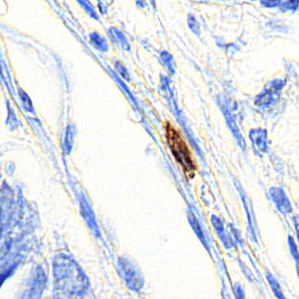Lymphocyte: (162, 121, 198, 177)
